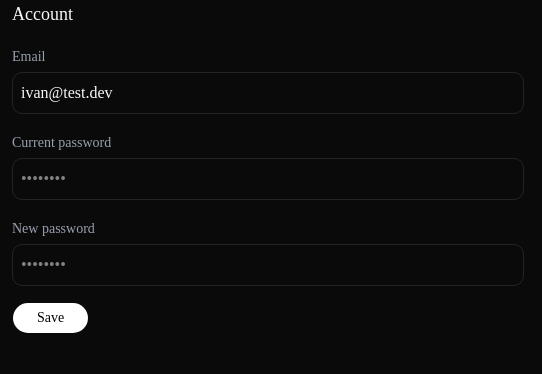
AccountSection › refuses a password shorter than the api allows
Type "oldsecret" into the password field labelled "Current password".
click(268, 179); type("oldsecret")  # box [12, 158, 524, 200]
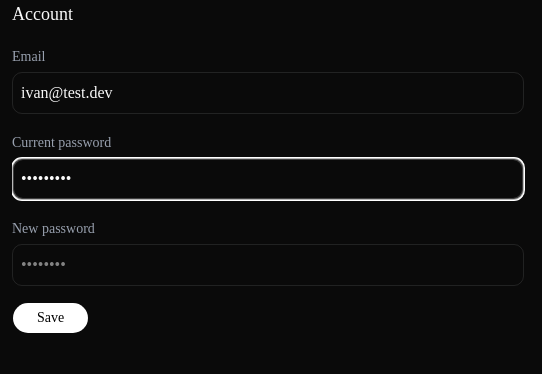
Type "short" into the password field labelled "New password".
click(268, 265); type("short")  # box [12, 244, 524, 286]
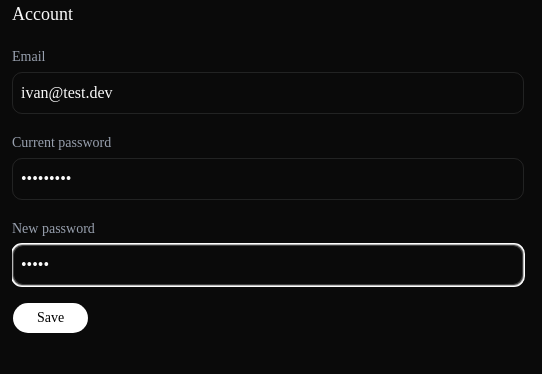
Click the button "Save".
click(51, 318)  # box [12, 302, 89, 334]
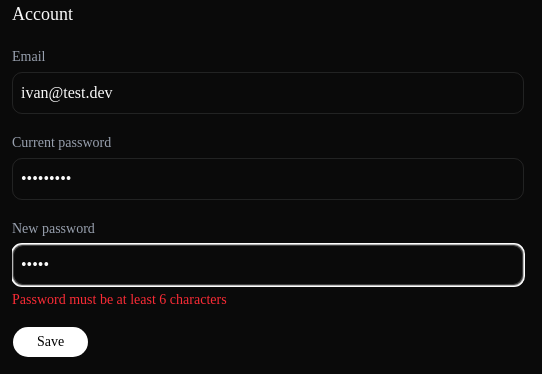
expect the text "Password must be at least 6 characters" is shown: met, box [12, 292, 227, 307]
